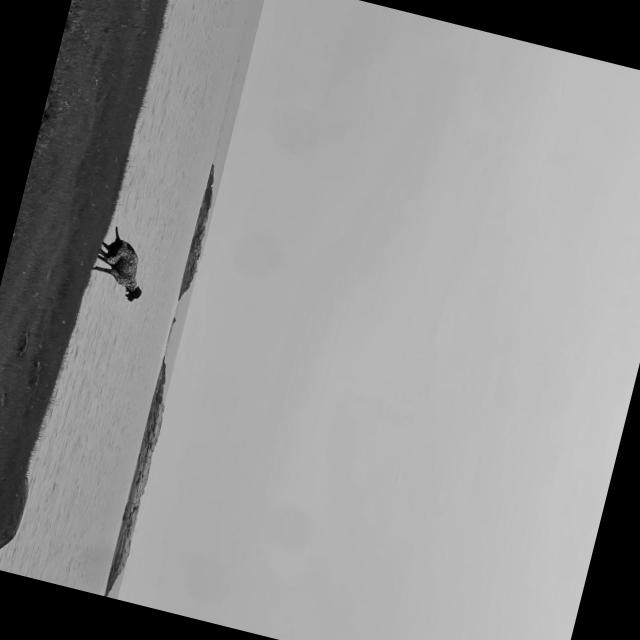squatting: (81, 218, 160, 308)
